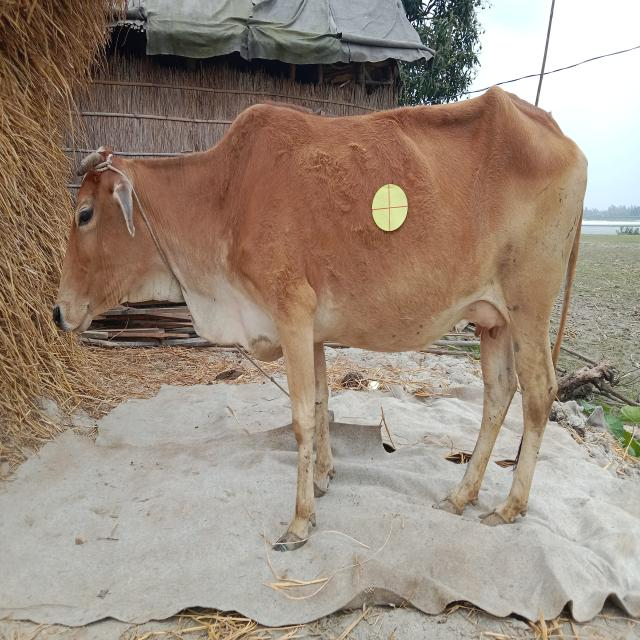badan_sapi: (226, 109, 586, 352)
sapi: (41, 89, 615, 570)
